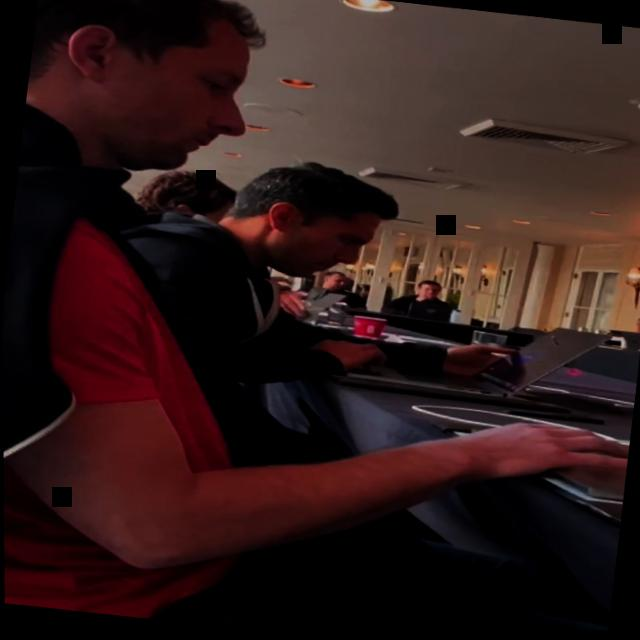NO-Mask: (85, 4, 259, 184), (269, 200, 381, 288), (417, 283, 439, 301), (328, 275, 346, 292), (634, 321, 640, 337)
